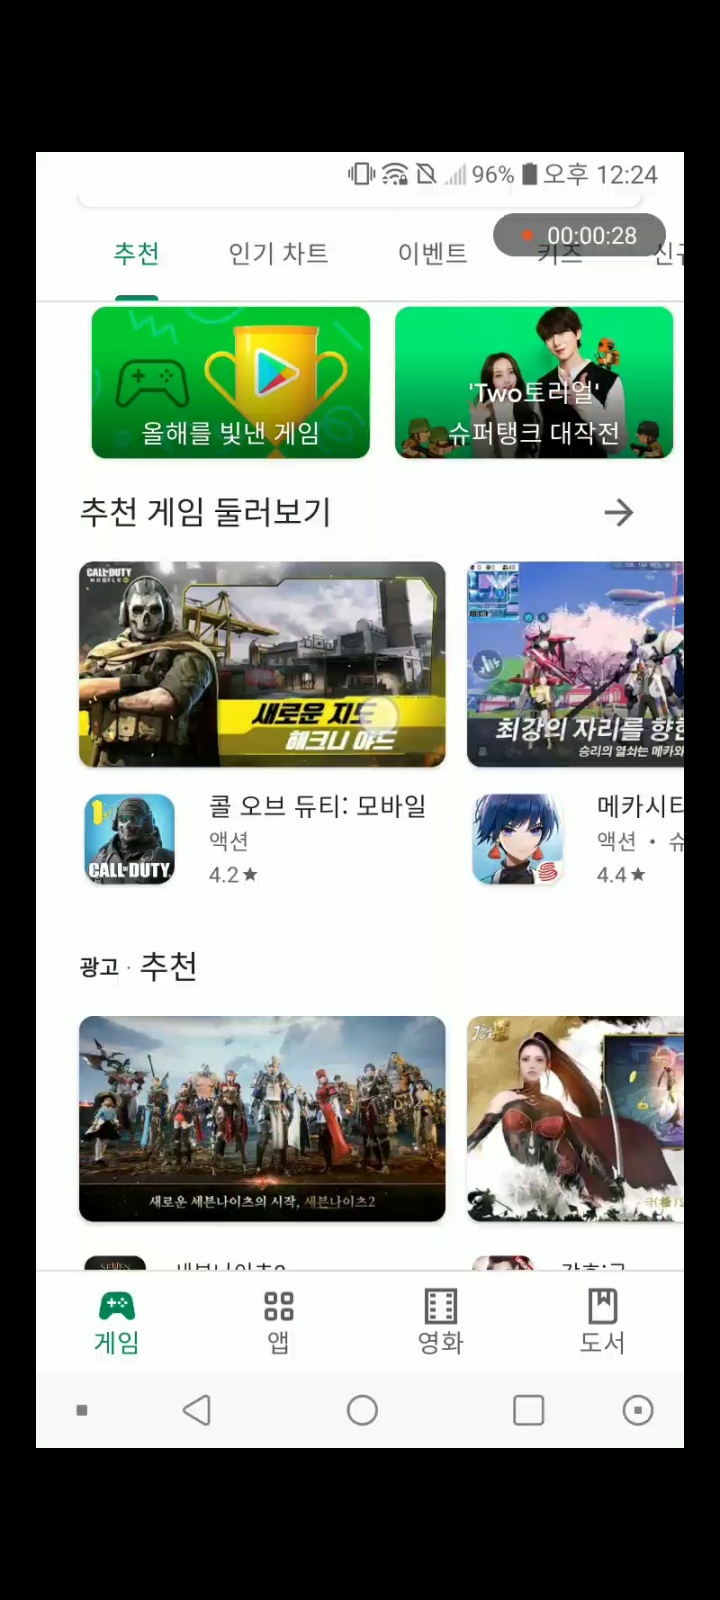Cursor: (358, 694, 403, 739)
